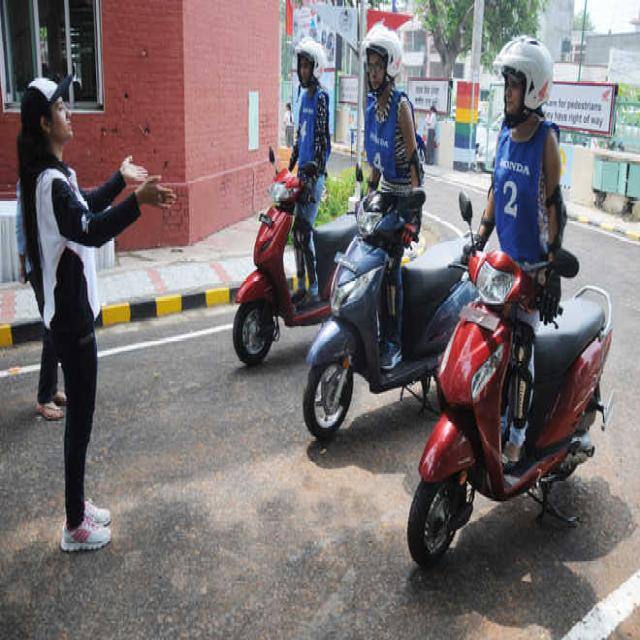motorcycle: (408, 38, 612, 565), (304, 24, 476, 437), (232, 38, 356, 364)
